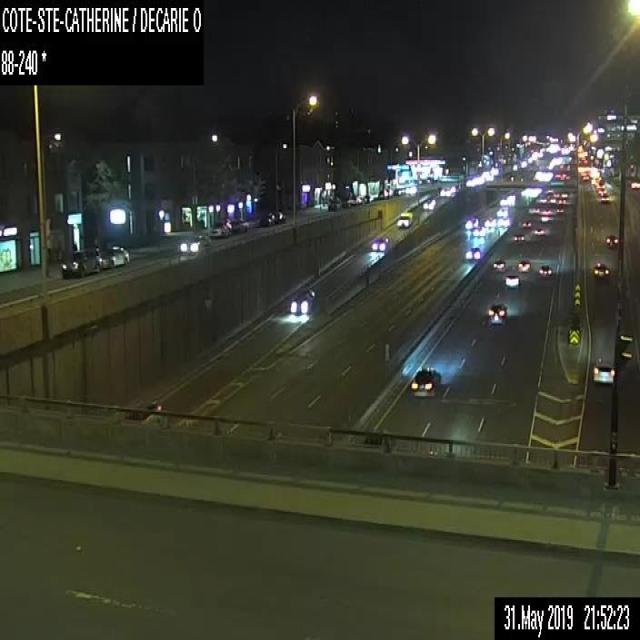vehicle: (61, 247, 101, 278), (409, 369, 441, 396), (289, 286, 316, 314), (97, 245, 128, 267), (178, 235, 210, 254), (592, 358, 614, 382), (487, 303, 506, 323), (209, 220, 231, 237), (592, 262, 609, 278), (371, 236, 388, 251), (397, 211, 412, 228), (230, 218, 247, 232), (259, 212, 275, 225), (465, 247, 480, 260), (504, 274, 519, 286), (604, 233, 618, 245), (517, 260, 530, 272), (422, 197, 435, 209), (538, 264, 552, 274), (274, 212, 285, 223), (522, 216, 531, 228), (439, 187, 450, 196), (533, 227, 545, 235), (600, 193, 609, 203), (514, 234, 524, 242), (492, 260, 504, 266), (542, 207, 552, 214), (528, 206, 538, 212), (558, 197, 566, 204), (538, 196, 546, 203), (598, 188, 606, 195), (556, 205, 563, 212), (541, 215, 547, 221), (550, 196, 555, 203), (552, 192, 559, 196), (560, 192, 566, 196)
